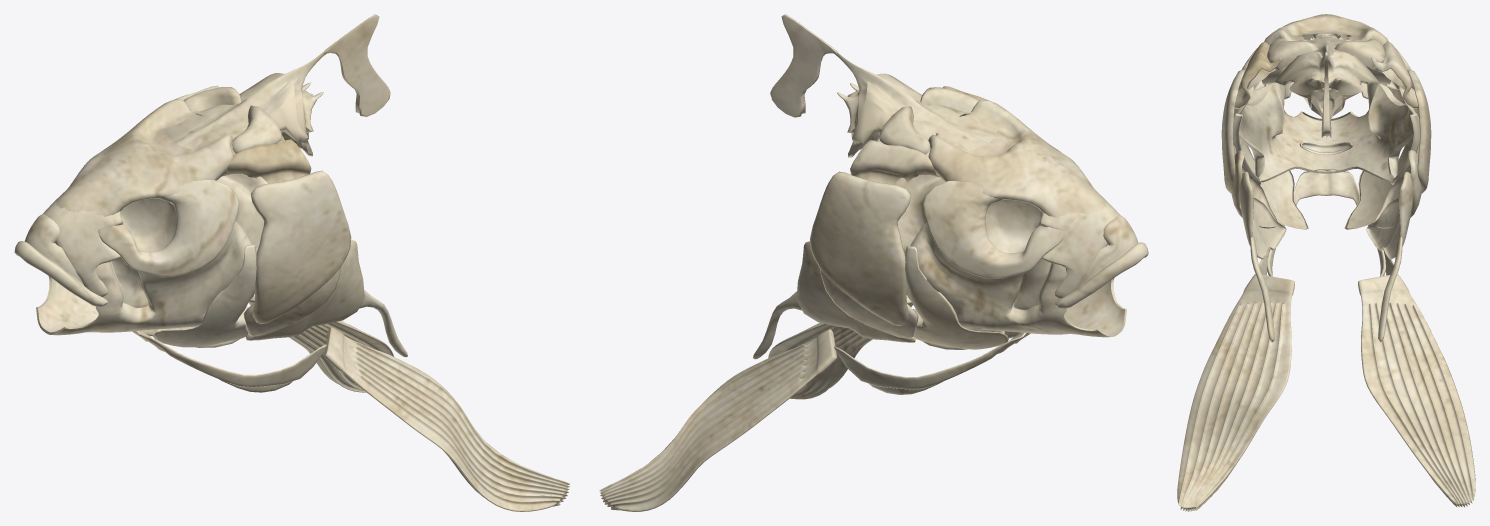
Rendered from fish_kepala.glb.
The picture shows the model from 3 angles, left to right: view 1: azimuth 30°, elevation 25°; view 2: azimuth 150°, elevation 25°; view 3: azimuth 270°, elevation 25°; orthographic projection. The views are drawn at different scales.
Parts seen in each view (by area): view 1: Tulang_MSH34.001; view 2: Tulang_MSH34.001; view 3: Tulang_MSH34.001.
Part boxes in pixels (x1,y1,x2,y2): Tulang_MSH34.001: (14, 14, 569, 511); Tulang_MSH34.001: (599, 14, 1148, 511); Tulang_MSH34.001: (1177, 14, 1475, 511).
Size of the model in its own units: 0.1372 by 0.1251 by 0.0821.
1 material, 1 textured.
